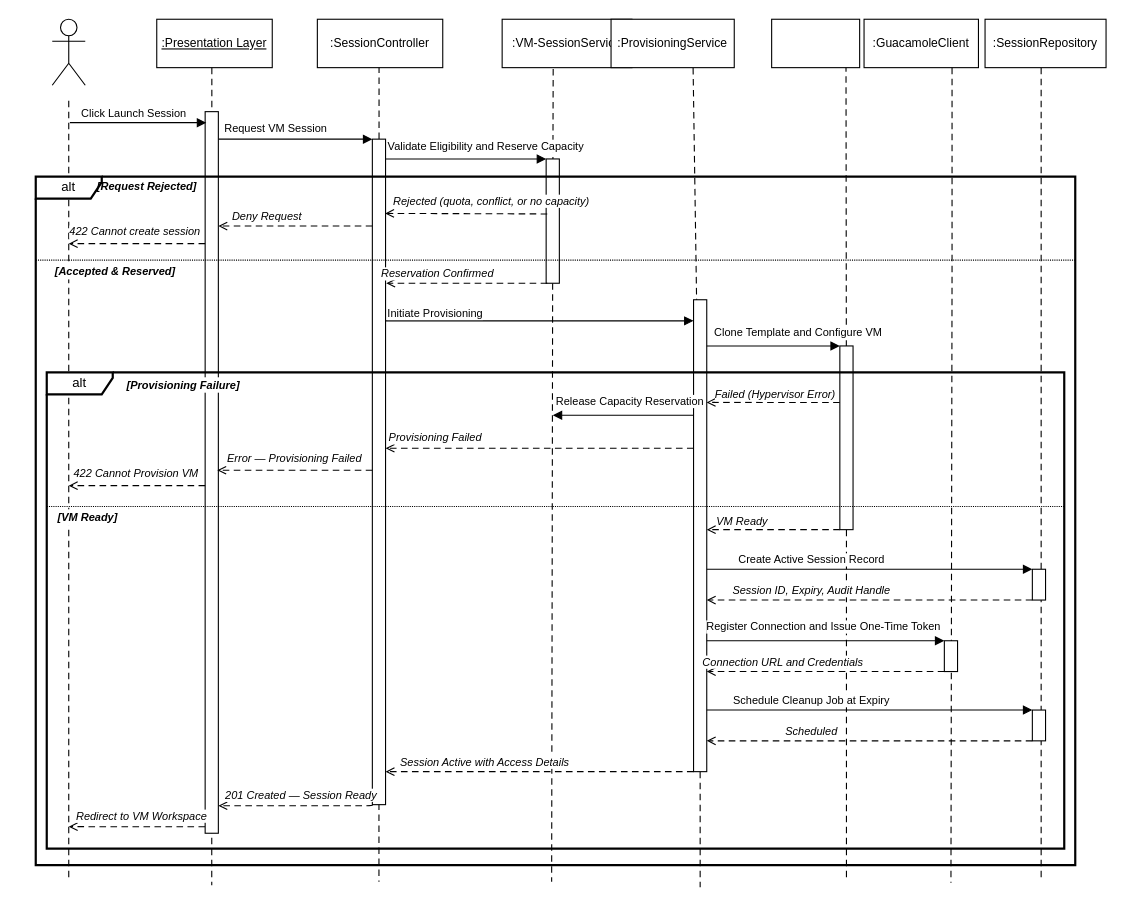
Image size: 1125x908. Some labels were removed from this diagram. Here are the shapes that lost their labels. From the top down, the box of each, then its label:
(51, 18, 85, 85): Engineer
(771, 18, 860, 68): :ProxmoxClient
